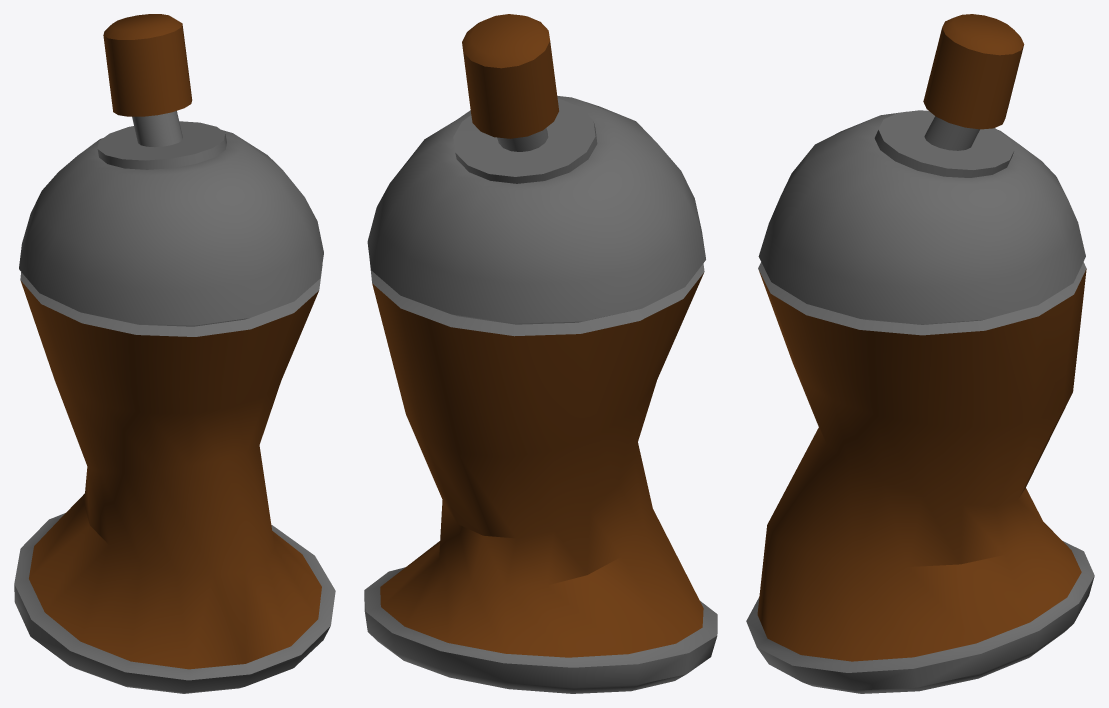
The model's file is Spray_06.fbx.
3 views of the same model, side by side, from view 1: azimuth 30°, elevation 25°; view 2: azimuth 150°, elevation 25°; view 3: azimuth 270°, elevation 25° (orthographic). The views are drawn at different scales.
Visible parts, largest first — view 1: Spray_06; view 2: Spray_06; view 3: Spray_06.
Boxes of the visible parts, x1=… form: Spray_06: x1=14, y1=14, x2=335, y2=693; Spray_06: x1=364, y1=14, x2=717, y2=693; Spray_06: x1=746, y1=14, x2=1094, y2=693.
Size of the model in its own units: 27.59 by 56.8 by 28.67.
